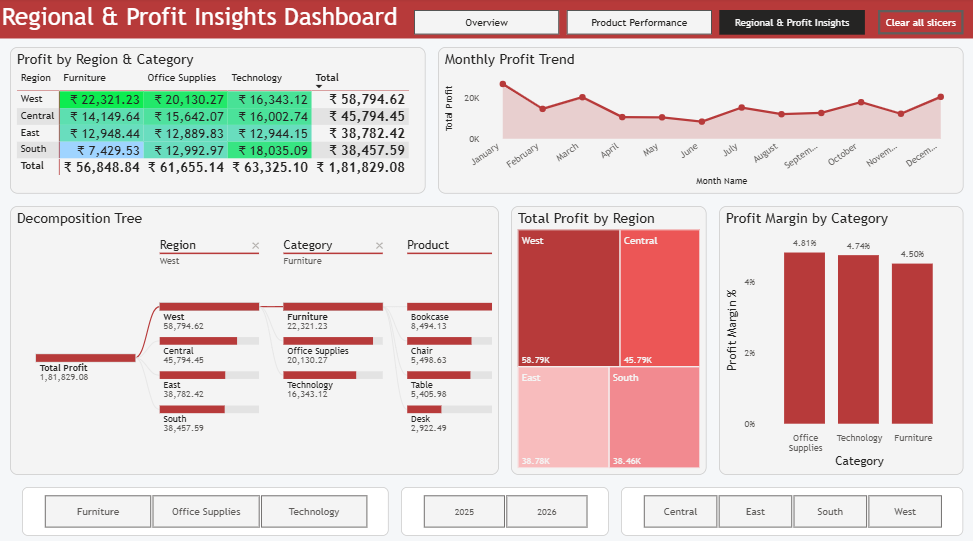

The page's visual inventory and layout, read from the dashboard file:
{"tool":"powerbi","page":{"name":"Regional & Profit Insights","canvas":[1280,720],"ordinal":2},"visuals":[{"type":"textbox","box":[0,0,1280,53],"z":0},{"type":"pivotTable","title":"Profit by Region & Category","fields":{"Rows":["Sales_Data.Region"],"Columns":["Sales_Data.Category"],"Values":["Sum(Sales_Data.Profit)"]},"box":[16,64,544,192],"z":1000},{"type":"treemap","fields":{"Group":["Sales_Data.Region"],"Values":["Sum(Sales_Data.Profit)"]},"box":[672,272,256,352],"z":2000},{"type":"areaChart","title":"Monthly Profit Trend","fields":{"Category":["Sales_Data.Month Name"],"Y":["Sum(Sales_Data.Profit)"]},"box":[576,64,688,192],"z":3000},{"type":"clusteredColumnChart","title":"Profit Margin  by Category","fields":{"Category":["Sales_Data.Category"],"Y":["Sales_Data.Profit Margin %"]},"box":[944,272,320,352],"z":4000},{"type":"decompositionTreeVisual","title":"Decomposition Tree","fields":{"Analyze":["Sum(Sales_Data.Profit)"],"ExplainBy":["Sales_Data.Region","Sales_Data.Category","Sales_Data.Product"]},"box":[16,272,640,352],"z":5000},{"type":"slicer","fields":{"Values":["Sales_Data.Region"]},"box":[816,640,448,64],"z":6000},{"type":"slicer","fields":{"Values":["Sales_Data.Category"]},"box":[32,640,480,64],"z":7000},{"type":"pageNavigator","box":[544,16,592,32],"z":8000},{"type":"actionButton","box":[1152,16,112,32],"z":9000},{"type":"slicer","fields":{"Values":["Sales_Data.Year"]},"box":[528,640,272,64],"z":9001}]}

Visuals, with their boxes in screenshot pixels (x1, y1, x2, y2), scaled from the page's 1280x720 canvas onto the 973x541 screenshot:
textbox: <bbox>0, 0, 972, 40</bbox>
"Profit by Region & Category" pivotTable: <bbox>12, 48, 426, 192</bbox>
treemap - Sales_Data.Region x Sum(Sales_Data.Profit): <bbox>511, 204, 705, 469</bbox>
"Monthly Profit Trend" areaChart: <bbox>438, 48, 961, 192</bbox>
"Profit Margin  by Category" clusteredColumnChart: <bbox>718, 204, 961, 469</bbox>
"Decomposition Tree" decompositionTreeVisual: <bbox>12, 204, 499, 469</bbox>
slicer - Sales_Data.Region: <bbox>620, 481, 961, 529</bbox>
slicer - Sales_Data.Category: <bbox>24, 481, 389, 529</bbox>
pageNavigator: <bbox>414, 12, 864, 36</bbox>
actionButton: <bbox>876, 12, 961, 36</bbox>
slicer - Sales_Data.Year: <bbox>401, 481, 608, 529</bbox>
